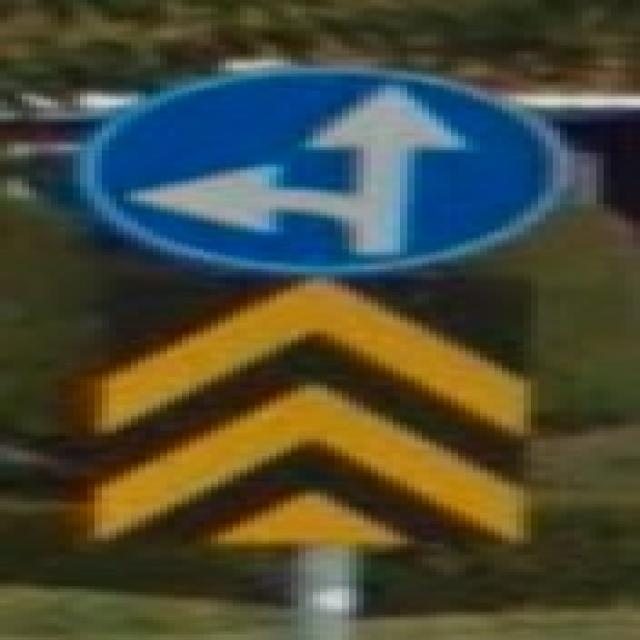Straight or Left: (77, 69, 572, 276)
